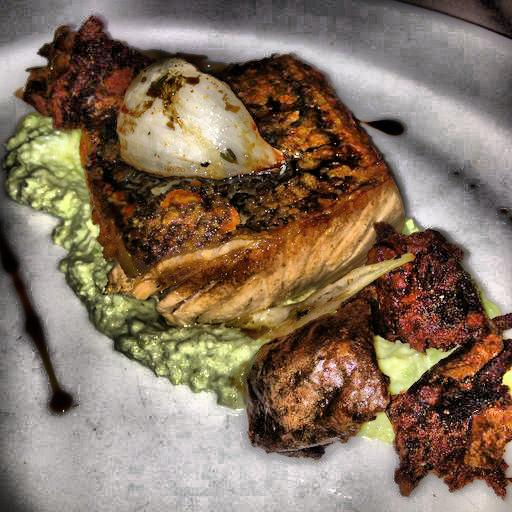fish: (29, 28, 397, 334)
